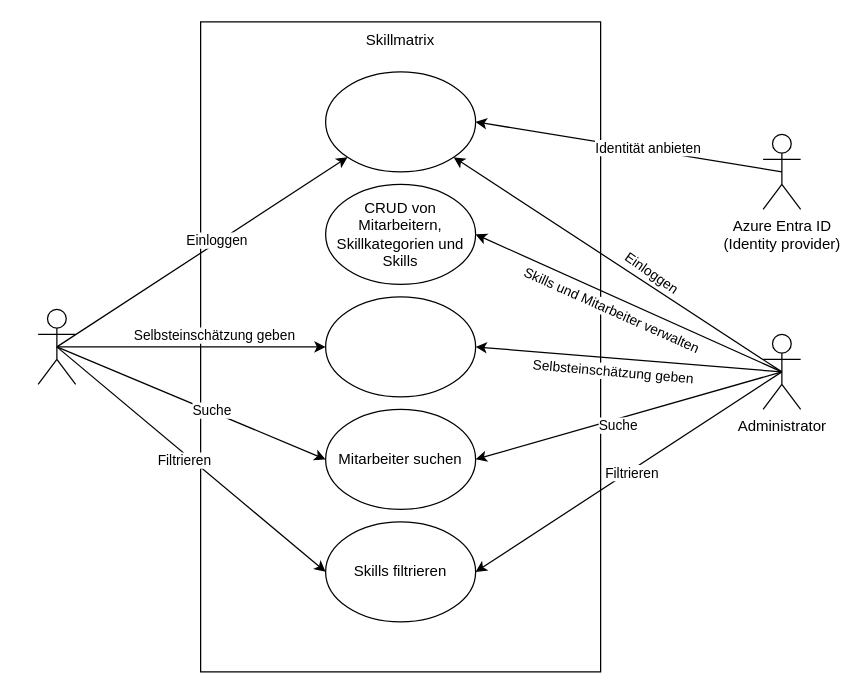
Some shapes in this 861 by 694 pixel diagram are drawn without their labels. The shapes that lost their labels are listed below. From the top down, each one's centre as x and y in pixels, then its label:
point 400,121: Login
point 56,346: Mitarbeiter
point 400,346: Einschätzen
